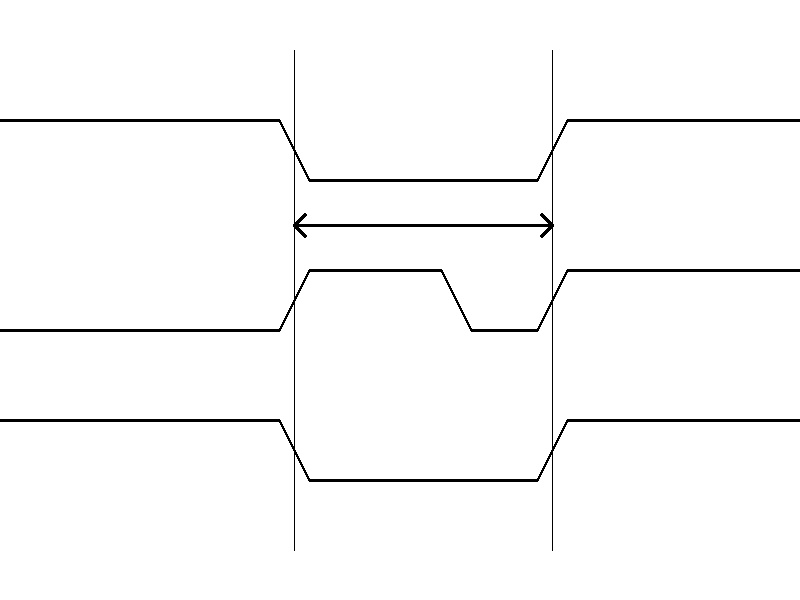double_arrow: (294, 210, 552, 240)
